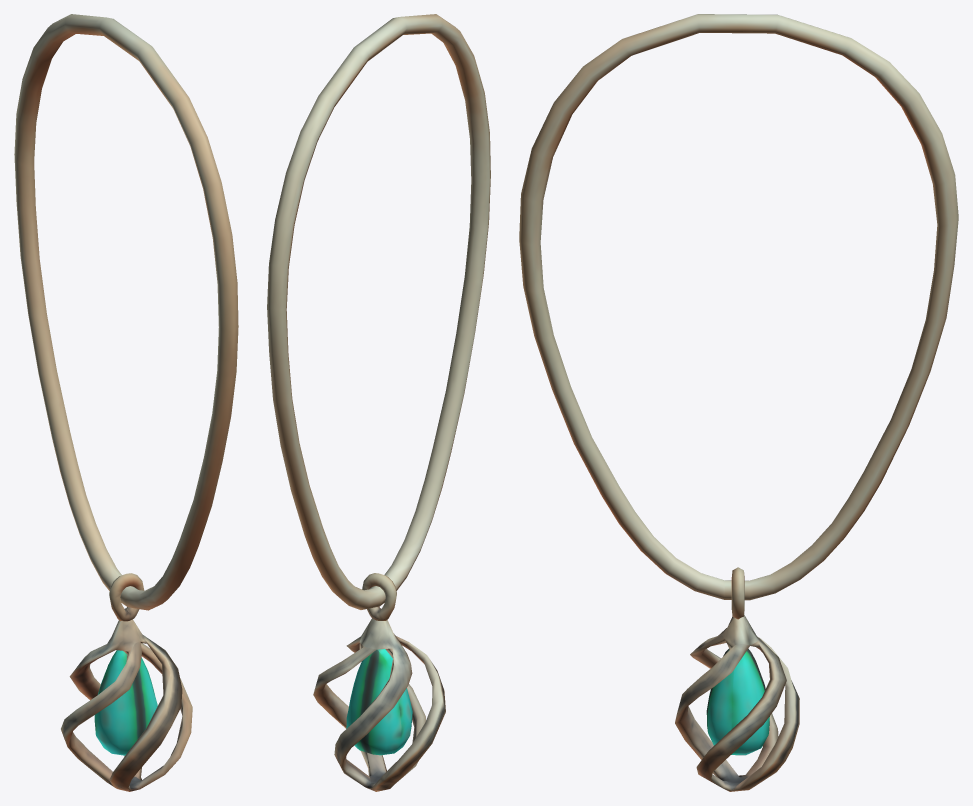
Rendered from SM_Necklace_B_Bronze.fbx.
3 renders of one model, left to right at view 1: azimuth 30°, elevation 25°; view 2: azimuth 150°, elevation 25°; view 3: azimuth 270°, elevation 25°, orthographic. The views are drawn at different scales.
Visible parts, largest first — view 1: SM_Necklace_B_Bronze_LOD0; view 2: SM_Necklace_B_Bronze_LOD0; view 3: SM_Necklace_B_Bronze_LOD0.
Boxes of the visible parts, x1,y1,x2,y2 form: SM_Necklace_B_Bronze_LOD0: (14,14,238,791); SM_Necklace_B_Bronze_LOD0: (267,14,490,791); SM_Necklace_B_Bronze_LOD0: (519,14,958,791).
Bounding box in the file's own units: 2.93 × 9.34 × 18.16.
Materials: 2 (2 with a texture image).
